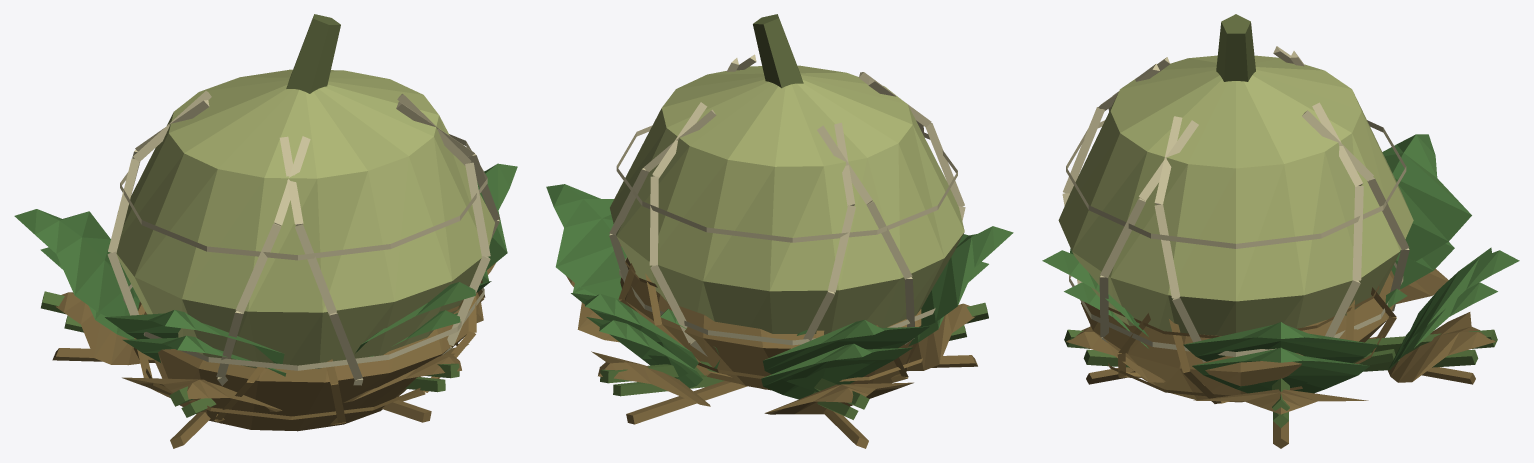
Rendered from summer_melon.glb.
The picture shows the model from 3 angles, left to right: view 1: azimuth 30°, elevation 25°; view 2: azimuth 150°, elevation 25°; view 3: azimuth 270°, elevation 25°; orthographic projection. The views are drawn at different scales.
Visible parts, largest first — view 1: stage3, dead, stage2; view 2: stage3, dead, stage2; view 3: stage3, dead, stage2, stage1.
Boxes of the visible parts, x1=… form: stage3: x1=14, y1=14, x2=517, y2=406; dead: x1=52, y1=263, x2=495, y2=448; stage2: x1=40, y1=247, x2=489, y2=417; stage3: x1=546, y1=14, x2=1013, y2=409; dead: x1=566, y1=244, x2=977, y2=448; stage2: x1=573, y1=262, x2=988, y2=419; stage3: x1=1042, y1=14, x2=1519, y2=416; dead: x1=1066, y1=268, x2=1495, y2=448; stage2: x1=1064, y1=241, x2=1497, y2=427; stage1: x1=1352, y1=288, x2=1407, y2=365.
Bounding box in the file's own units: 0.6485 × 0.5389 × 0.6391.
